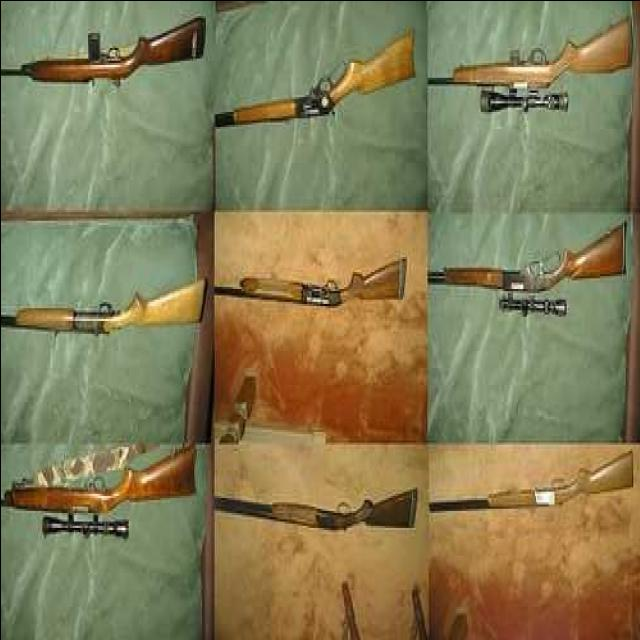heavyweapon: (211, 20, 426, 172), (1, 249, 211, 396), (1, 441, 193, 567), (423, 221, 640, 332), (5, 3, 213, 118), (436, 29, 637, 123), (435, 447, 632, 539), (217, 466, 413, 545), (217, 238, 413, 312)
